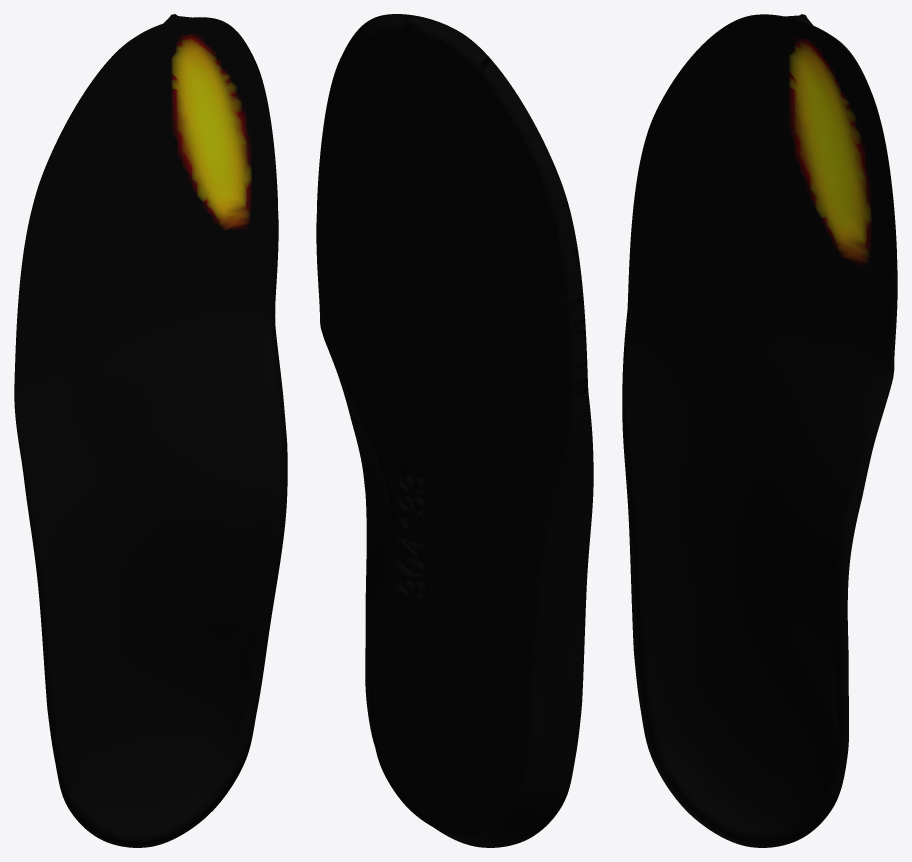
File: PAIR-DRILL-FILL-1ST_LEFT.glb
3 views of the same model, side by side, from view 1: azimuth 30°, elevation 25°; view 2: azimuth 150°, elevation 25°; view 3: azimuth 330°, elevation 25° (orthographic). The views are drawn at different scales.
Visible parts, largest first — view 1: world; view 2: world; view 3: world.
Boxes of the visible parts, x1=… form: world: x1=14, y1=14, x2=287, y2=847; world: x1=316, y1=14, x2=593, y2=847; world: x1=622, y1=14, x2=897, y2=847.
Size of the model in its own units: 109 by 317 by 24.14.
